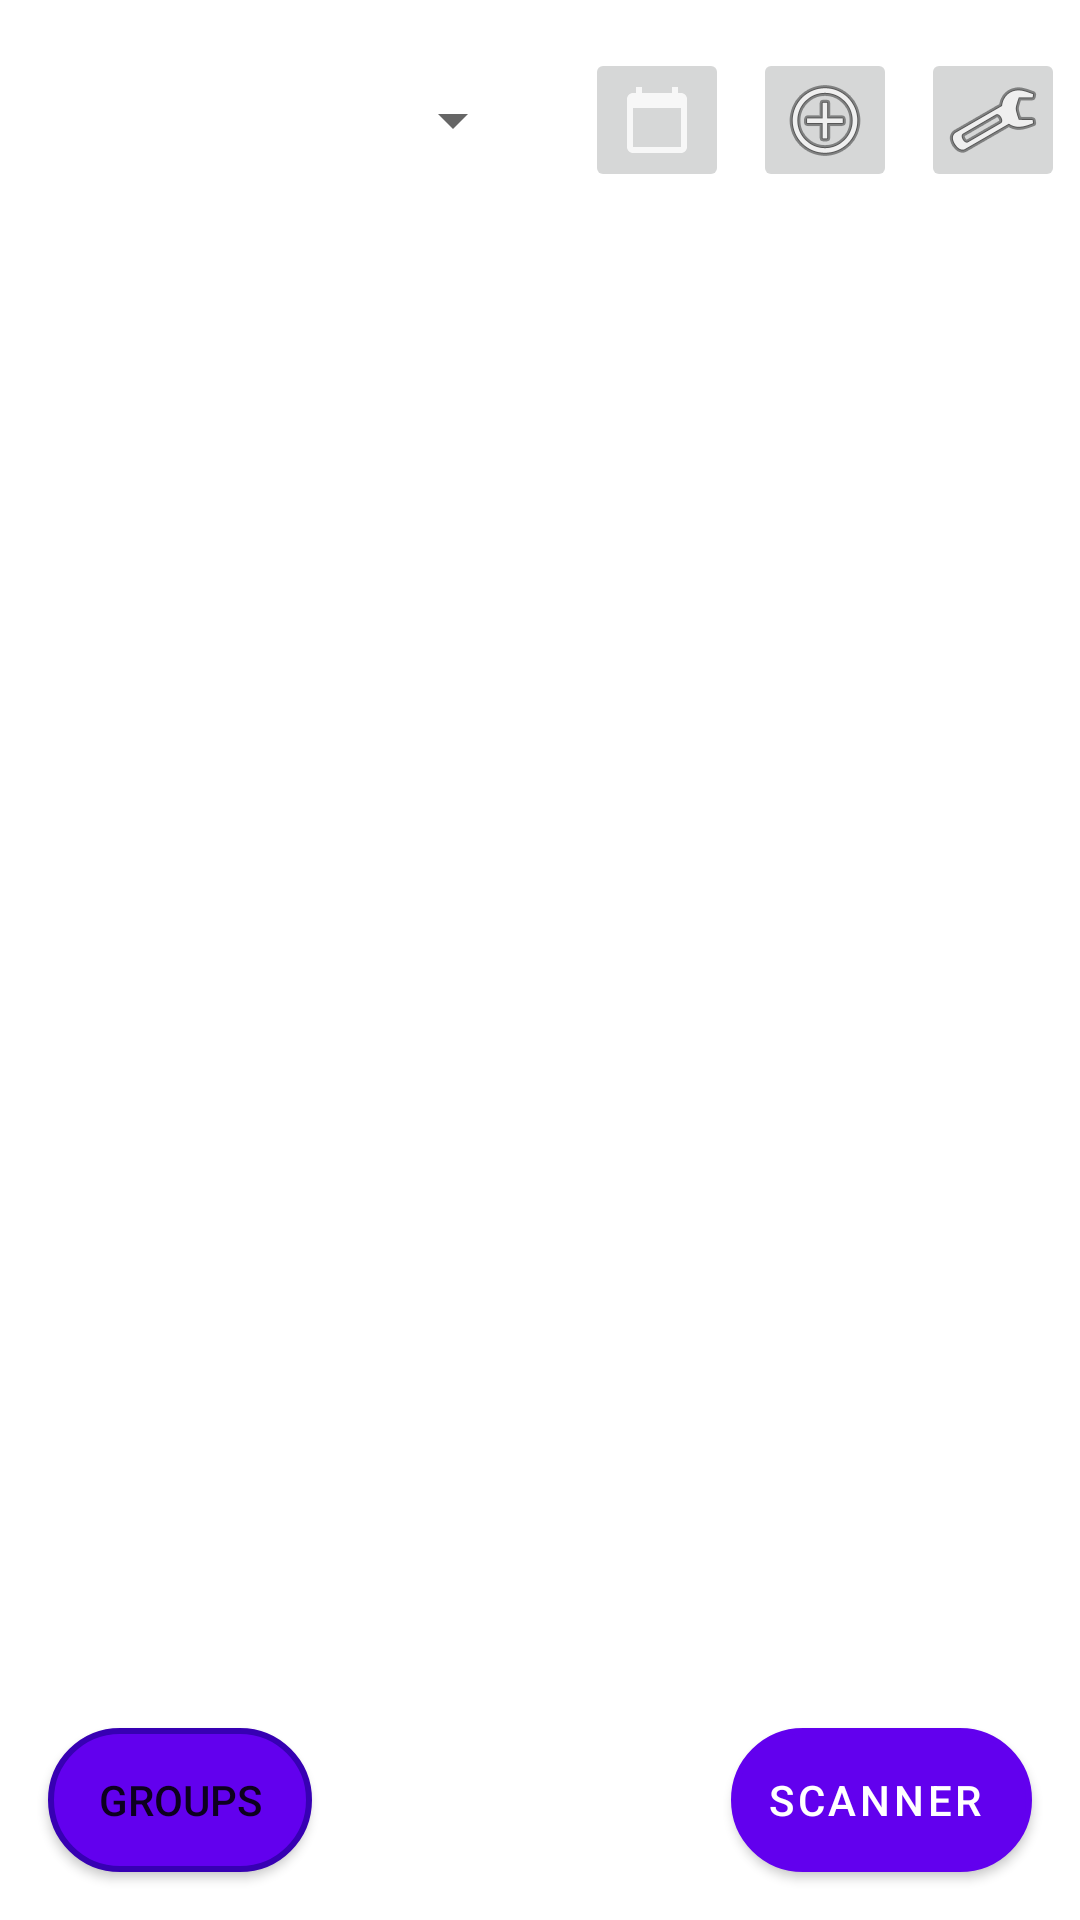

Screen size 1080x1920. Icon name, then its box in pixels as (x1, y1, x2, y2):
Add Deadline Button: (765, 66, 885, 174)
Calendar: (597, 66, 717, 174)
Settings button: (933, 66, 1053, 174)
